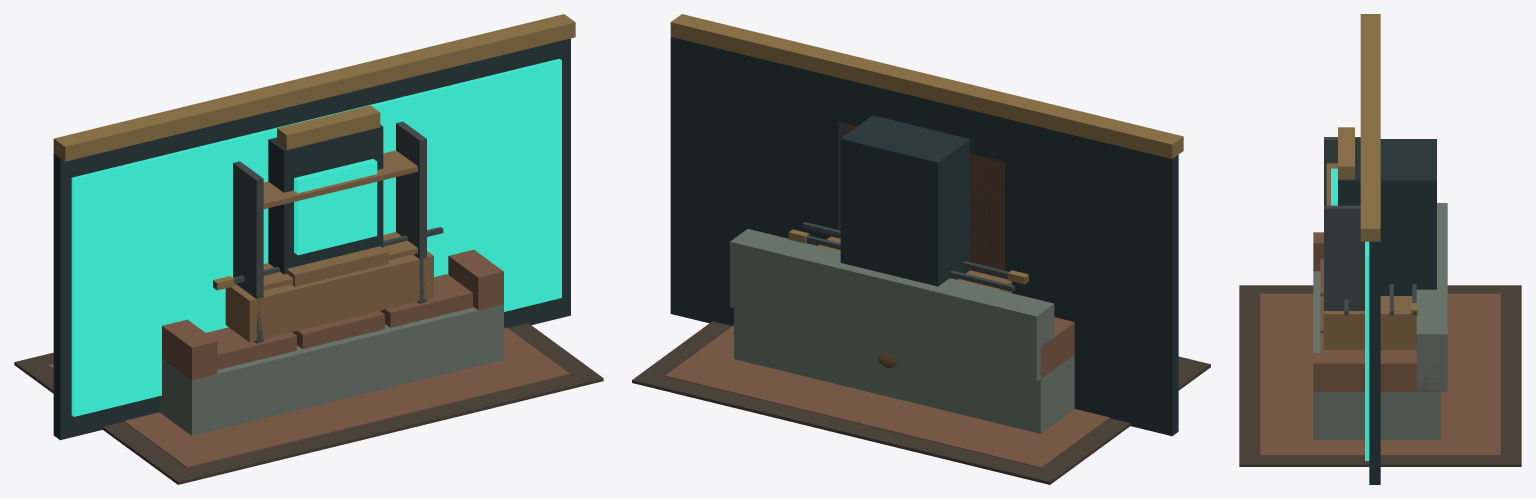
Rendered from hq-commons-pack.glb.
The picture shows the model from 3 angles, left to right: view 1: azimuth 30°, elevation 25°; view 2: azimuth 150°, elevation 25°; view 3: azimuth 270°, elevation 25°; orthographic projection. The views are drawn at different scales.
Parts seen in each view (by area): view 1: Fleet_Screen, Couch_Base, Fleet_Panel, Rug_Border, Fleet_Header, Rug_Field, Foos_Body, Arcade_Body, Arcade_Screen, Snack_Upright_West, Snack_Upright_East, Couch_Arm_West (+8 smaller); view 2: Fleet_Panel, Couch_Back, Arcade_Body, Couch_Base, Rug_Border, Fleet_Header, Rug_Field, Snack_Back, Couch_Arm_West, Foos_Rod_0, Foos_Rod_1; view 3: Rug_Border, Rug_Field, Arcade_Body, Couch_Base, Fleet_Header, Couch_Back, Snack_Upright_East, Couch_Arm_East, Foos_Body, Fleet_Panel, Fleet_Screen, Arcade_Marquee (+3 smaller).
Part boxes in pixels (left/top/right/bottom): Fleet_Screen: left=71, top=58, right=561, bottom=416; Couch_Base: left=159, top=304, right=503, bottom=435; Fleet_Panel: left=53, top=38, right=570, bottom=440; Rug_Border: left=48, top=327, right=569, bottom=467; Fleet_Header: left=53, top=14, right=575, bottom=161; Rug_Field: left=14, top=323, right=603, bottom=484; Foos_Body: left=225, top=251, right=433, bottom=342; Arcade_Body: left=268, top=125, right=383, bottom=274; Arcade_Screen: left=294, top=159, right=377, bottom=255; Snack_Upright_West: left=233, top=161, right=263, bottom=343; Snack_Upright_East: left=396, top=121, right=426, bottom=303; Couch_Arm_West: left=162, top=319, right=217, bottom=379; Fleet_Panel: left=670, top=37, right=1178, bottom=436; Couch_Back: left=730, top=229, right=1054, bottom=381; Arcade_Body: left=840, top=115, right=970, bottom=286; Couch_Base: left=734, top=308, right=1074, bottom=433; Rug_Border: left=665, top=325, right=1109, bottom=467; Fleet_Header: left=670, top=14, right=1183, bottom=158; Rug_Field: left=632, top=321, right=1210, bottom=484; Snack_Back: left=839, top=123, right=1004, bottom=278; Couch_Arm_West: left=1040, top=317, right=1074, bottom=378; Foos_Rod_0: left=806, top=235, right=1014, bottom=291; Foos_Rod_1: left=802, top=222, right=1027, bottom=281; Rug_Border: left=1260, top=293, right=1500, bottom=455; Rug_Field: left=1239, top=285, right=1521, bottom=466; Arcade_Body: left=1338, top=139, right=1436, bottom=295; Couch_Base: left=1313, top=271, right=1440, bottom=439; Fleet_Header: left=1360, top=14, right=1380, bottom=241; Couch_Back: left=1416, top=203, right=1447, bottom=391; Snack_Upright_East: left=1324, top=205, right=1364, bottom=310; Couch_Arm_East: left=1313, top=353, right=1440, bottom=391; Foos_Body: left=1324, top=296, right=1416, bottom=349; Fleet_Panel: left=1369, top=241, right=1380, bottom=484; Fleet_Screen: left=1365, top=241, right=1369, bottom=460; Arcade_Marquee: left=1338, top=127, right=1354, bottom=179.
Size of the model in its own units: 3.6 by 2 by 2.
